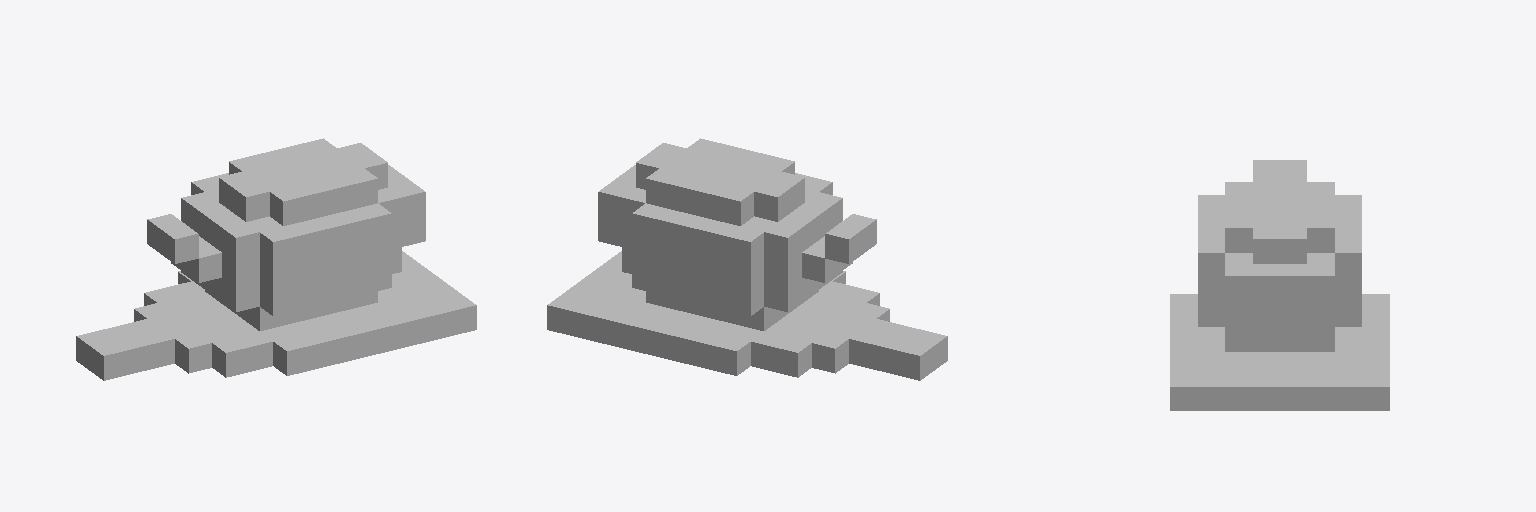
Rendered from cooking_cutting_board_with_beetroot.obj.
3 views of the same model, side by side, from view 1: azimuth 30°, elevation 25°; view 2: azimuth 150°, elevation 25°; view 3: azimuth 270°, elevation 25° (orthographic).
Visible parts, largest first — view 1: node_0_0_0.012, node_0_0_0.010; view 2: node_0_0_0.012, node_0_0_0.010; view 3: node_0_0_0.012, node_0_0_0.010.
Boxes of the visible parts, box(x1,y1,x2,y2) form: node_0_0_0.012: box(147, 138, 425, 330); node_0_0_0.010: box(76, 251, 476, 380); node_0_0_0.012: box(598, 138, 876, 330); node_0_0_0.010: box(547, 251, 947, 380); node_0_0_0.012: box(1198, 160, 1361, 351); node_0_0_0.010: box(1170, 294, 1389, 410).
Bounding box in the file's own units: 0.875 × 0.375 × 0.5.